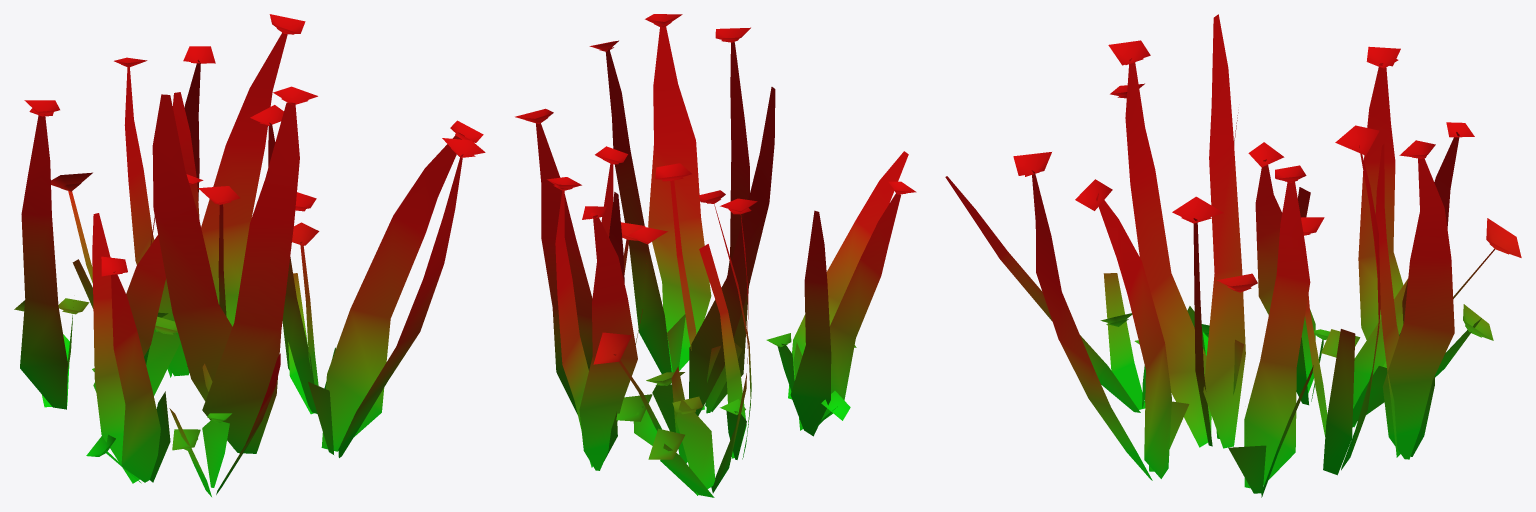
Rendered from White Everlasting_LOD4_Var6_ucvobbbia.fbx.
3 renders of one model, left to right at view 1: azimuth 30°, elevation 25°; view 2: azimuth 150°, elevation 25°; view 3: azimuth 270°, elevation 25°, orthographic. The views are drawn at different scales.
Visible parts, largest first — view 1: _23f1_Var6_LOD4; view 2: _23f1_Var6_LOD4; view 3: _23f1_Var6_LOD4.
Part boxes in pixels (x1,y1,x2,y2): _23f1_Var6_LOD4: (14, 14, 485, 496); _23f1_Var6_LOD4: (515, 14, 916, 497); _23f1_Var6_LOD4: (945, 14, 1521, 497).
Bounding box in the file's own units: 31.04 × 31.19 × 40.13.
